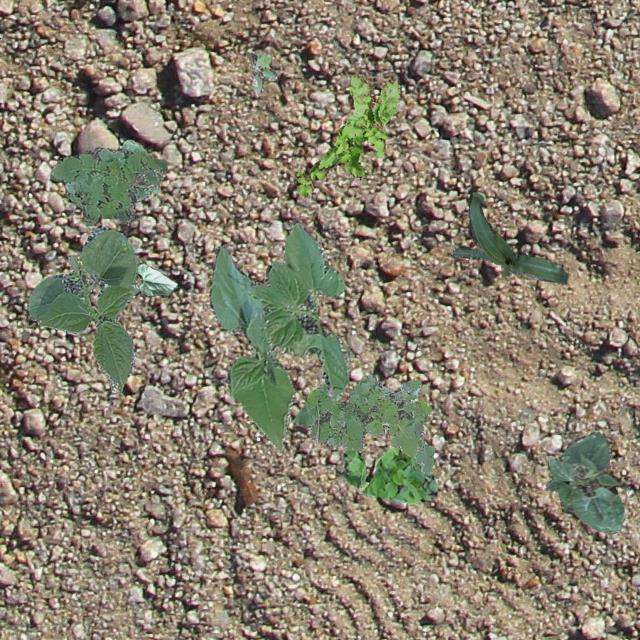crop: (208, 222, 350, 452), (27, 226, 136, 390), (452, 192, 566, 284), (544, 430, 622, 532), (102, 262, 176, 296), (120, 138, 158, 202)
weed: (294, 374, 434, 474), (294, 72, 400, 198), (50, 146, 166, 224), (338, 447, 437, 502), (245, 49, 275, 92)
